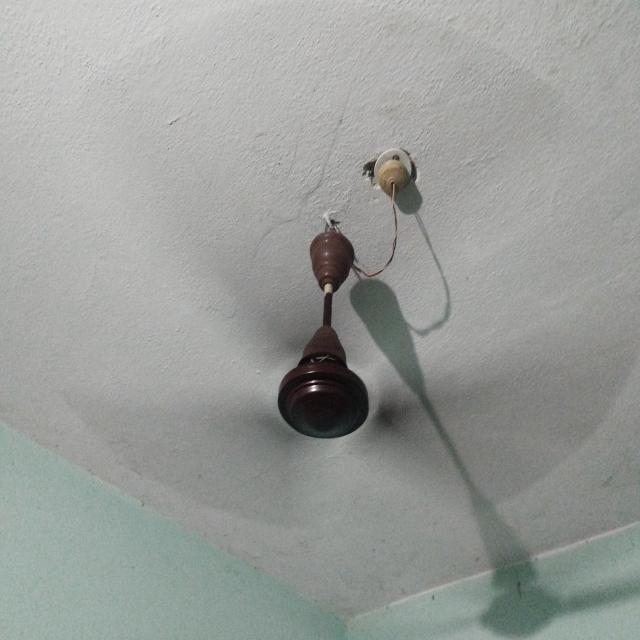fan_on: (63, 29, 640, 527)
